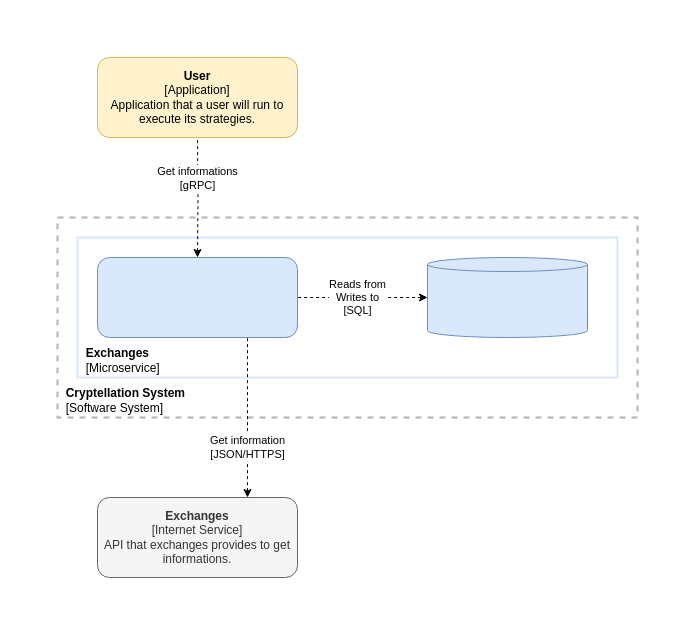
The diagram is 694 pixels wide and 634 high, and some of its shapes have lost their labels. Here are the shapes that lost their labels. From the top down, the centre of each, then its label:
At point 197,297: "Exchanges [Golang Service] Provides exchanges information to services and users.".
At point 507,297: "Database [SQL Database] Stores exchanges information for further reuse".
